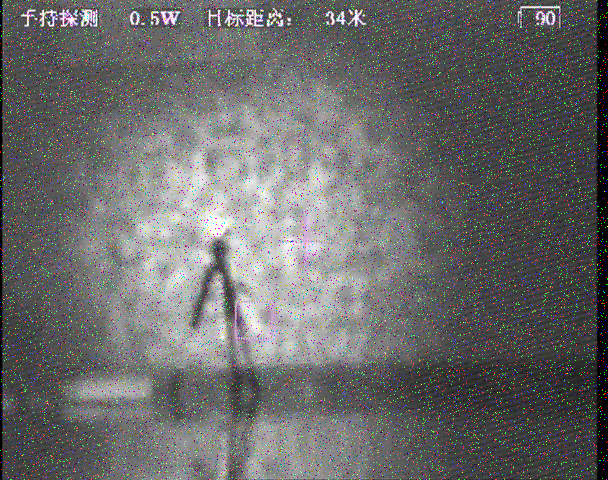my: (203, 214, 229, 239)
